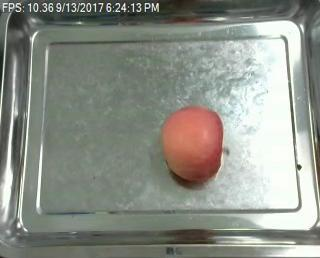apple: (162, 105, 225, 183)
